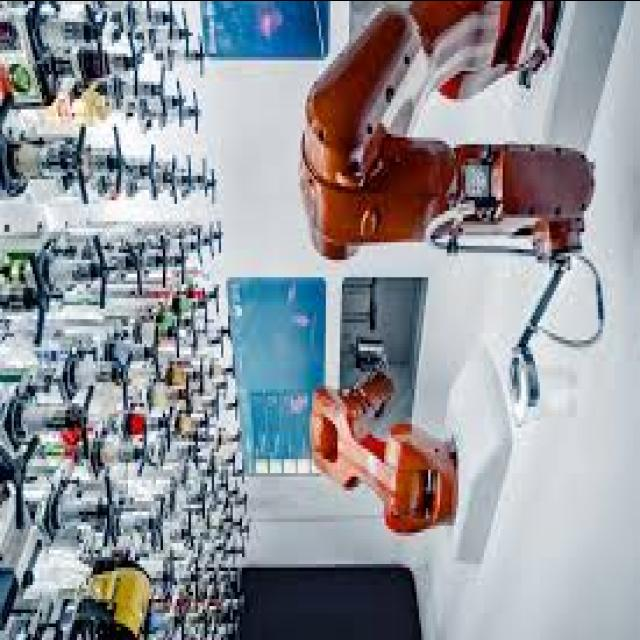Robotic-arm: (301, 0, 602, 284), (301, 353, 463, 541)
